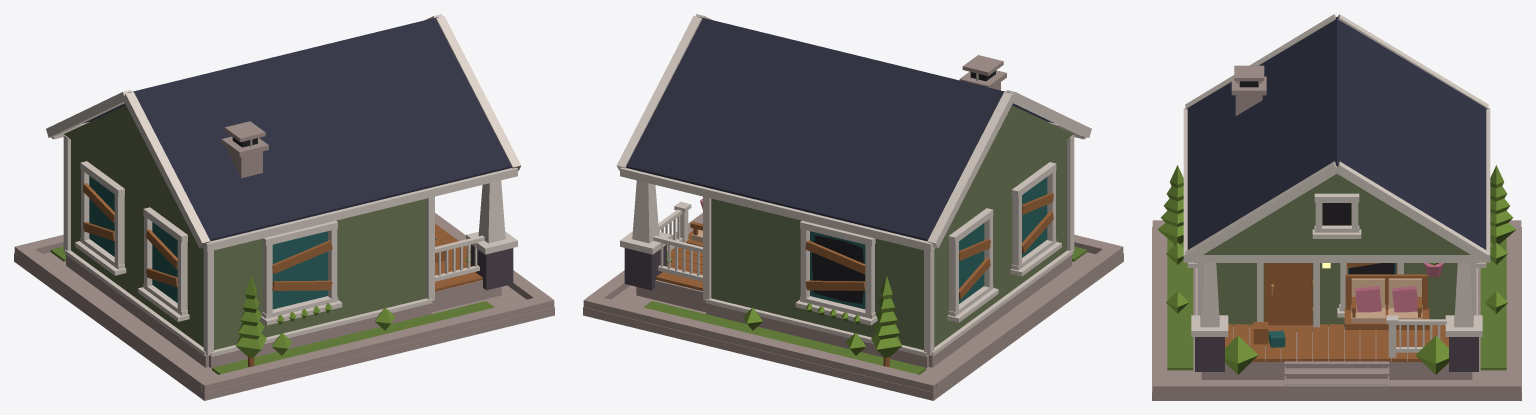
Rendered from bld.house-e.w2.lod2.glb.
3 renders of one model, left to right at view 1: azimuth 30°, elevation 25°; view 2: azimuth 150°, elevation 25°; view 3: azimuth 270°, elevation 25°, orthographic. The views are drawn at different scales.
Parts seen in each view (by area): view 1: roof, body, object 6; view 2: roof, body, object 6; view 3: roof, object 6, body, door_front.
Boxes of the visible parts, x1,y1,x2,y2 form: roof: (46,14,521,251); body: (63,105,517,368); object 6: (14,161,554,400); roof: (616,14,1091,251); body: (620,105,1074,368); object 6: (583,162,1123,400); roof: (1183,14,1490,262); object 6: (1152,165,1521,400); body: (1191,255,1482,384); door_front: (1264,263,1313,325).
Bounding box in the file's own units: 8.5 × 5.45 × 8.
